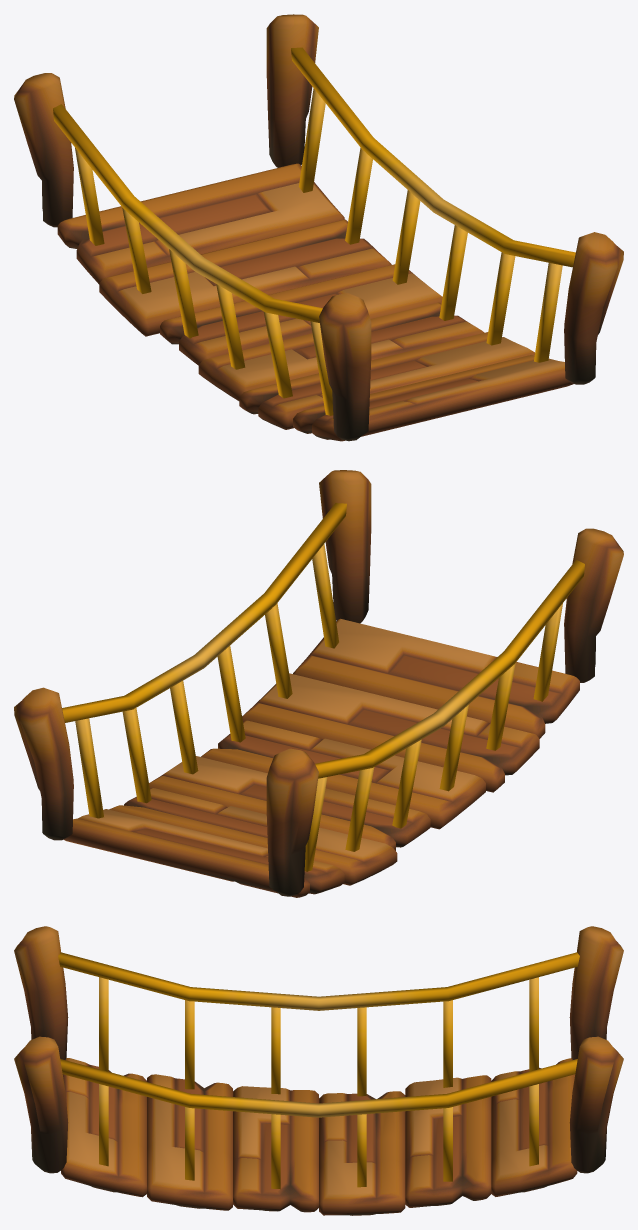
Rendered from m_Bridge02.fbx.
The picture shows the model from 3 angles, top to bottom: view 1: azimuth 30°, elevation 25°; view 2: azimuth 150°, elevation 25°; view 3: azimuth 270°, elevation 25°; orthographic projection. The views are drawn at different scales.
Visible parts, largest first — view 1: m_Bridge02; view 2: m_Bridge02; view 3: m_Bridge02.
Part boxes in pixels (bbox=[...]): m_Bridge02: bbox=[14, 14, 623, 441]; m_Bridge02: bbox=[14, 470, 623, 897]; m_Bridge02: bbox=[14, 926, 623, 1215].
Size of the model in its own units: 370 by 227 by 709.
